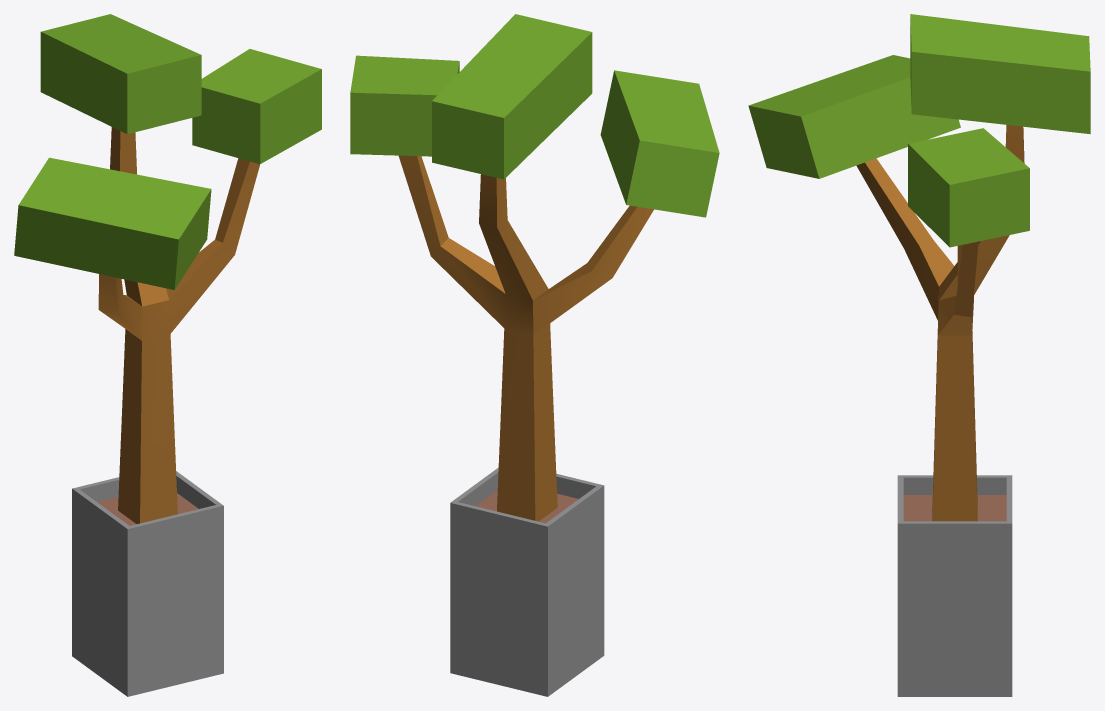
The model's file is deco_03.fbx.
The picture shows the model from 3 angles, left to right: view 1: azimuth 30°, elevation 25°; view 2: azimuth 150°, elevation 25°; view 3: azimuth 270°, elevation 25°; orthographic projection. The views are drawn at different scales.
Visible parts, largest first — view 1: deco_03; view 2: deco_03; view 3: deco_03.
Part boxes in pixels (x1,y1,x2,y2): deco_03: (14, 14, 321, 696); deco_03: (350, 14, 719, 696); deco_03: (748, 14, 1090, 696).
Bounding box in the file's own units: 2.06 × 3.68 × 1.79.
